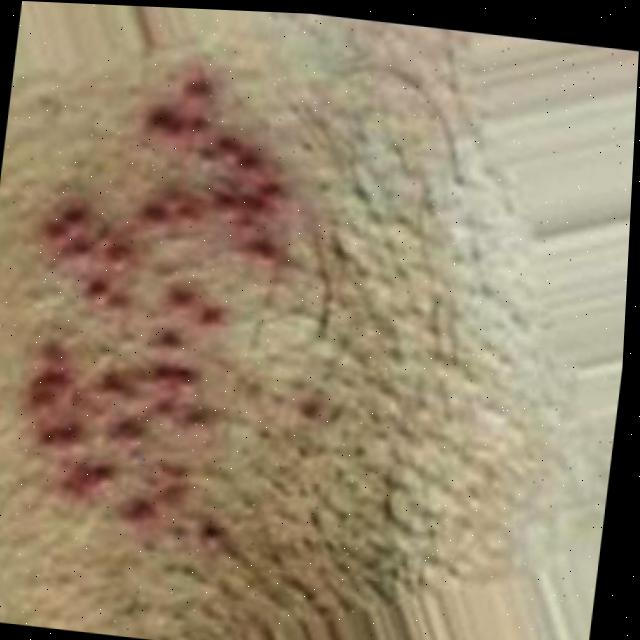Shingles: (7, 46, 322, 553)
